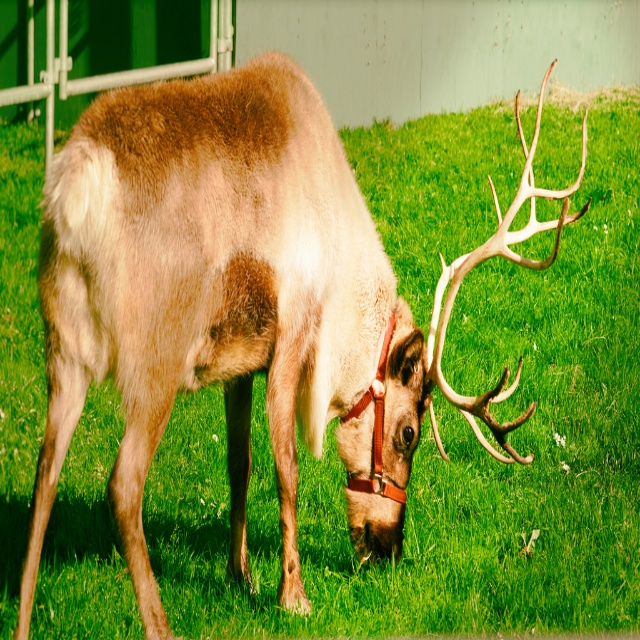Deer: (13, 47, 592, 640)
